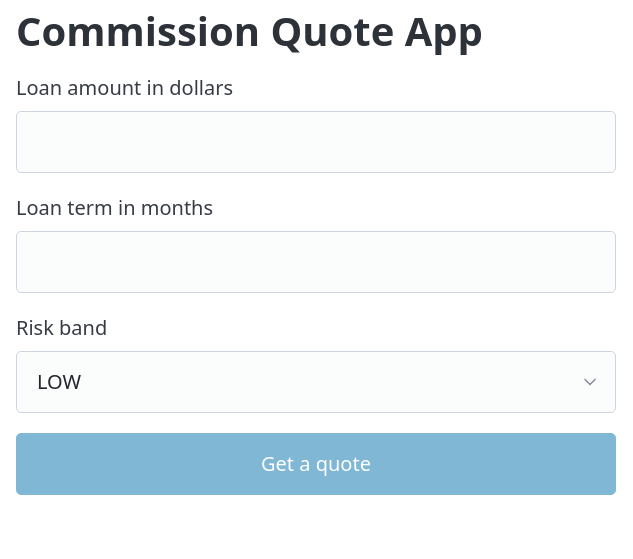
Test: the page after a quote request finishes › logs the request id from a failure and keeps it off screen
This screenshot has width=633, height=559.
Type "5000" into the number field labelled "Loan amount in dollars" at (316, 142), box [16,110,616,173]
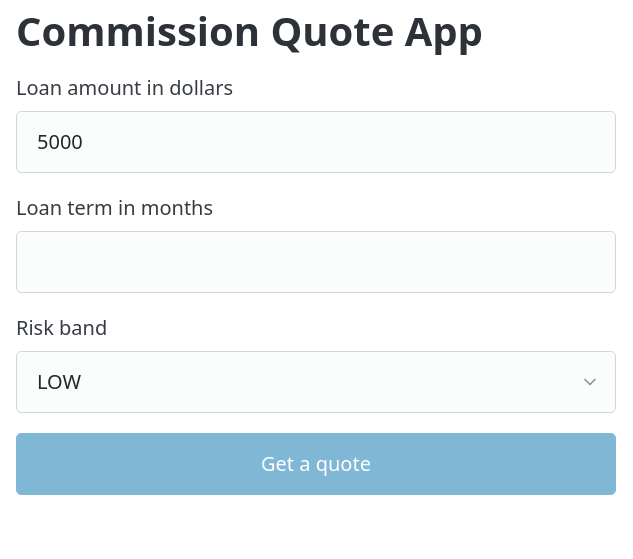
Type "24" into the number field labelled "Loan term in months" at (316, 262), box [16,230,616,293]
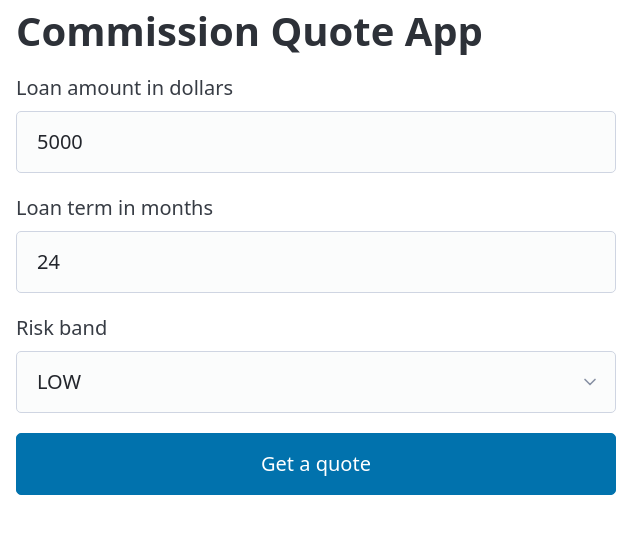
Select "MEDIUM" in the dropdown labelled "Risk band" at (316, 382), box [16,350,616,412]
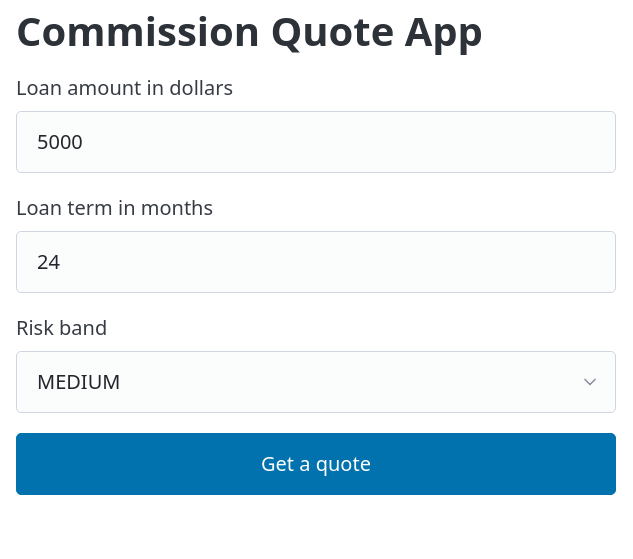
Click the button "Get a quote" at (316, 464), box [16,432,616,494]
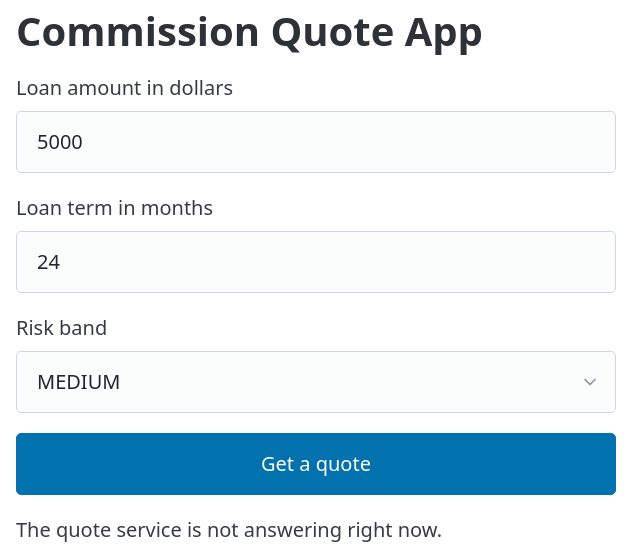
Result: the text "The quote service is not answering right now." is shown at [16,516,442,542]
